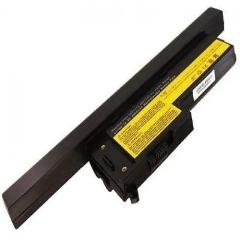electronic: (2, 3, 240, 240)
